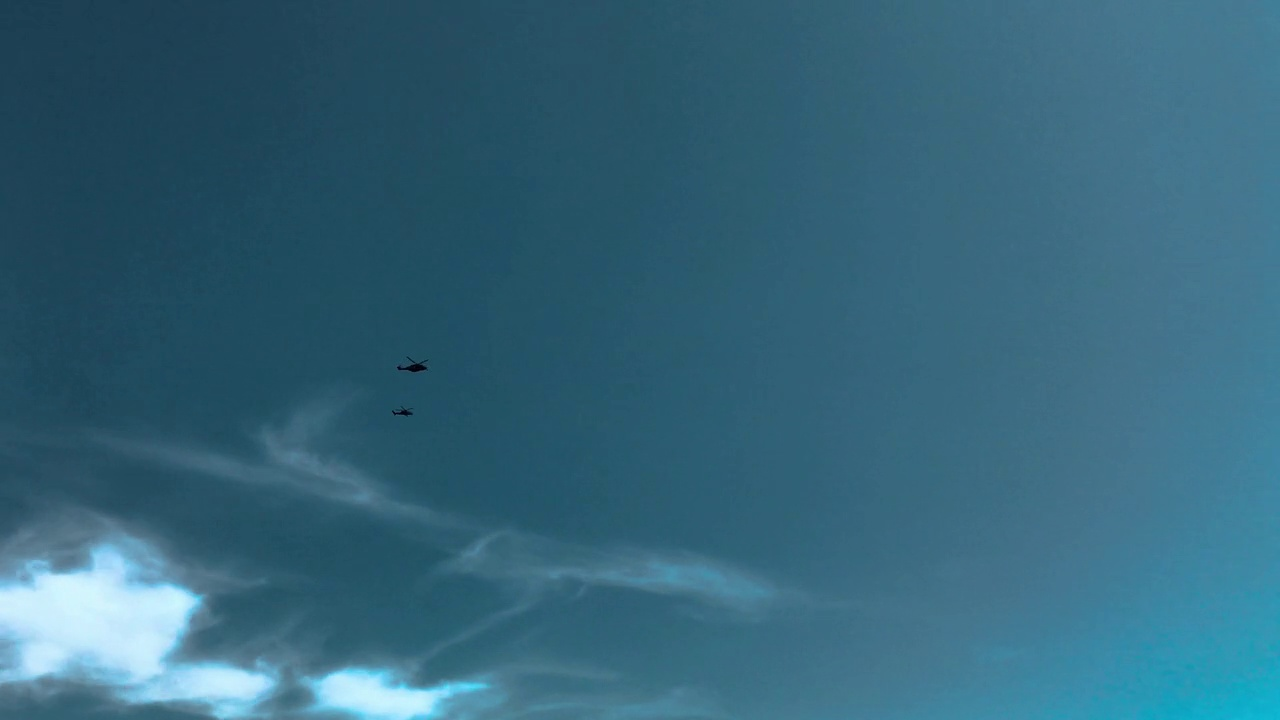heli: (397, 355, 428, 373), (390, 406, 413, 417)
